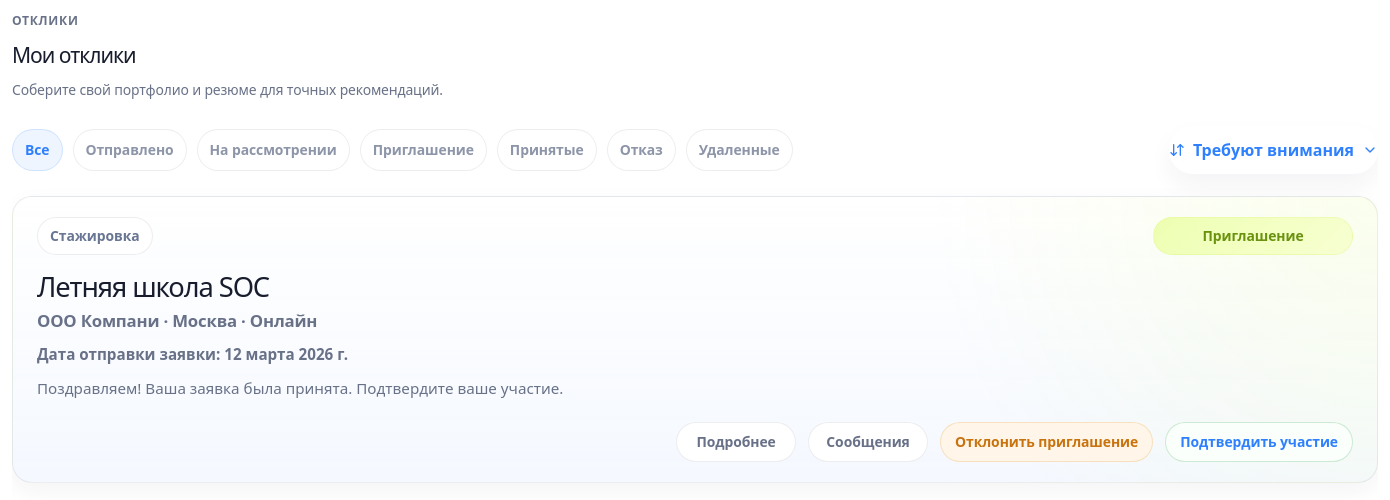
Test case: CandidateResponsesApp › confirms an invited application and updates the status in place
What coordinates should you click on to do the following:
click the button "Подтвердить участие"
I would click on:
 (1259, 442)
Its box is [1165,422,1353,462].
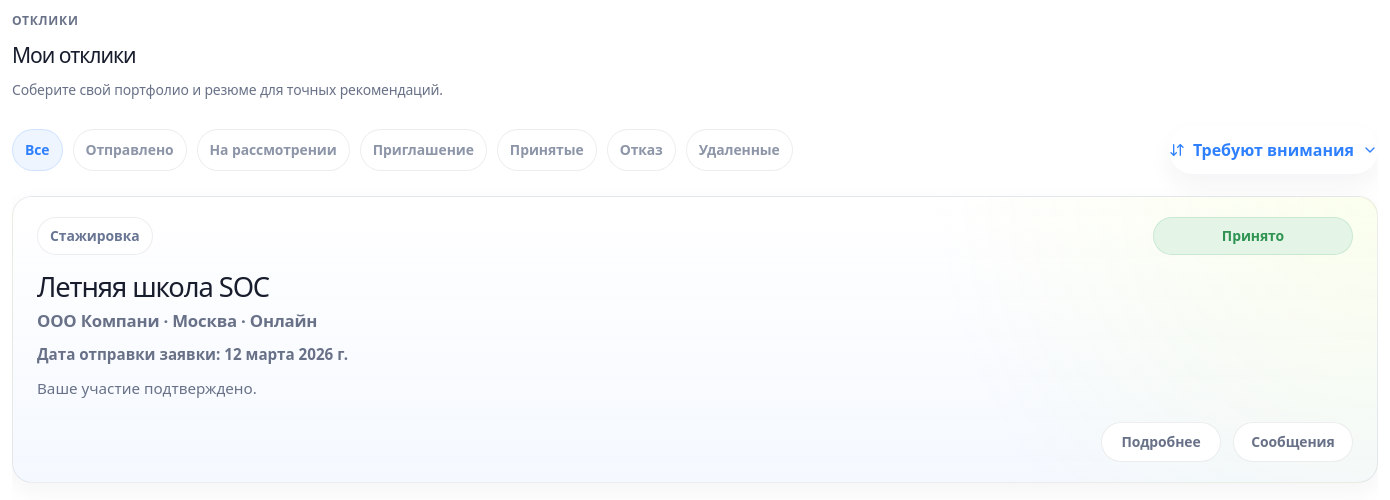
Result: the text "Принято" is shown at [1222,226,1284,246]
Result: the text "Ваше участие подтверждено." is shown at [37,378,257,398]
Result: the button "Подтвердить участие" is gone
